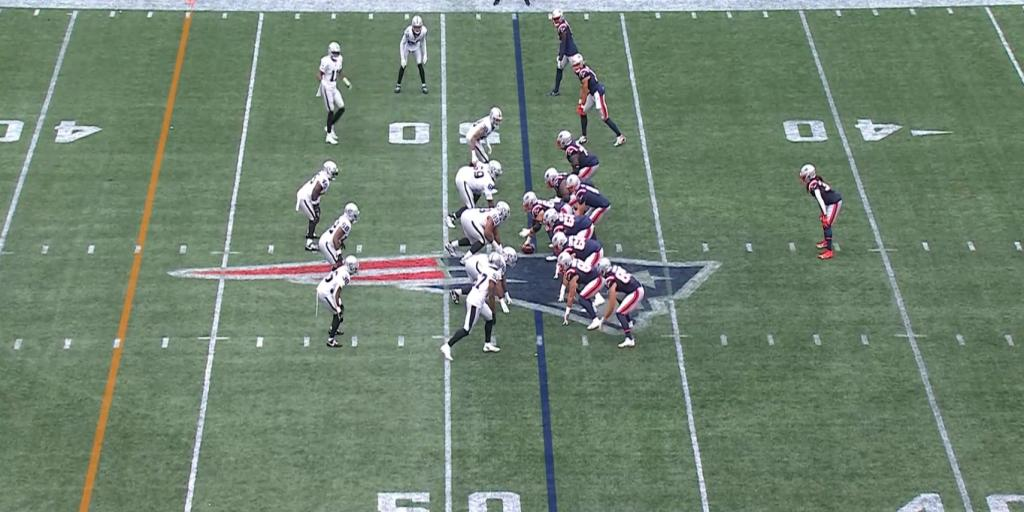player: (440, 246, 504, 360), (571, 54, 625, 144), (598, 258, 644, 346), (799, 164, 841, 258), (295, 160, 337, 250), (317, 256, 358, 346), (447, 161, 502, 226), (557, 253, 603, 327), (317, 41, 350, 144), (457, 201, 510, 263), (318, 203, 359, 267), (396, 15, 428, 93), (549, 9, 578, 95), (556, 130, 599, 183), (466, 107, 502, 165), (567, 175, 610, 223), (544, 209, 593, 243), (559, 234, 603, 264), (524, 192, 571, 218), (546, 168, 574, 201)
